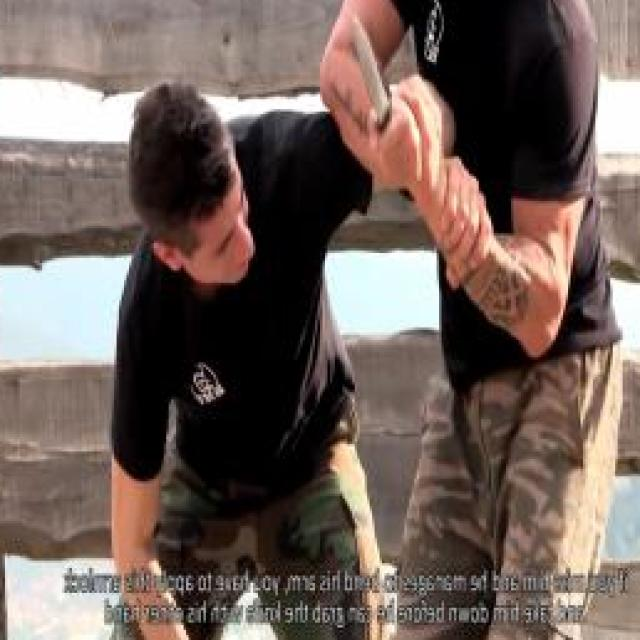knife: (348, 0, 416, 171)
